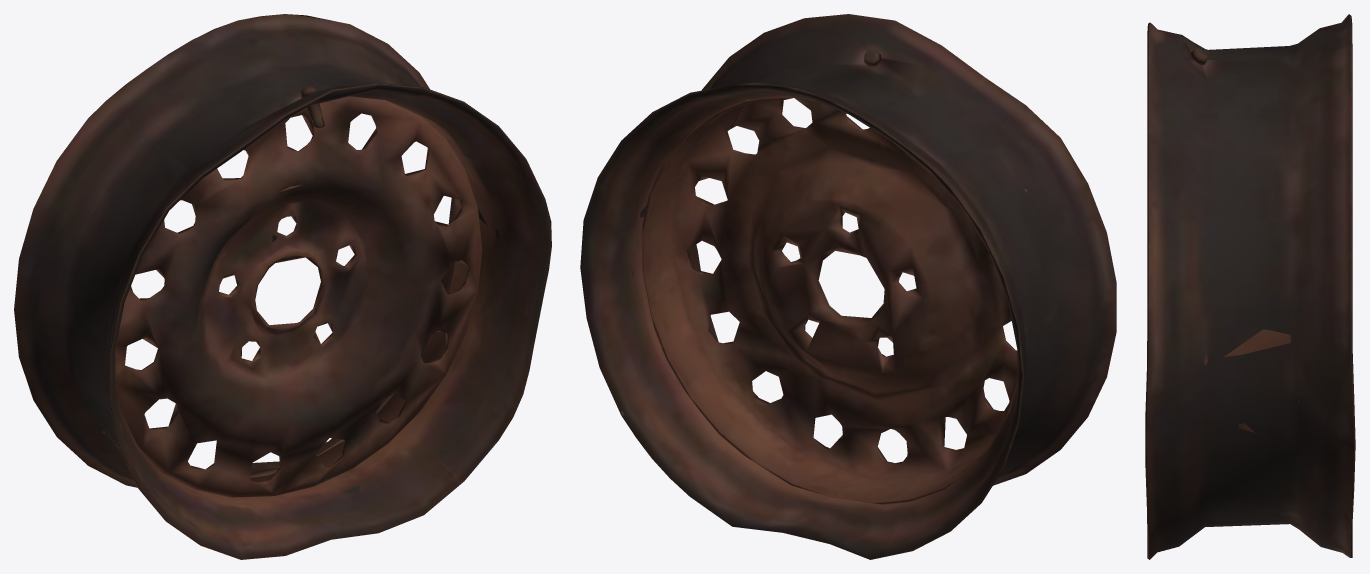
Rendered from rusted_wheel_rim_01.glb.
3 views of the same model, side by side, from view 1: azimuth 30°, elevation 25°; view 2: azimuth 150°, elevation 25°; view 3: azimuth 270°, elevation 25° (orthographic). The views are drawn at different scales.
Parts seen in each view (by area): view 1: rusted_wheel_rim_01; view 2: rusted_wheel_rim_01; view 3: rusted_wheel_rim_01.
Part boxes in pixels (bbox=[...]): rusted_wheel_rim_01: bbox=[14, 14, 551, 559]; rusted_wheel_rim_01: bbox=[580, 14, 1116, 559]; rusted_wheel_rim_01: bbox=[1145, 14, 1355, 559].
Size of the model in its own units: 0.4016 by 0.3938 by 0.1539.
1 material, 1 textured.
